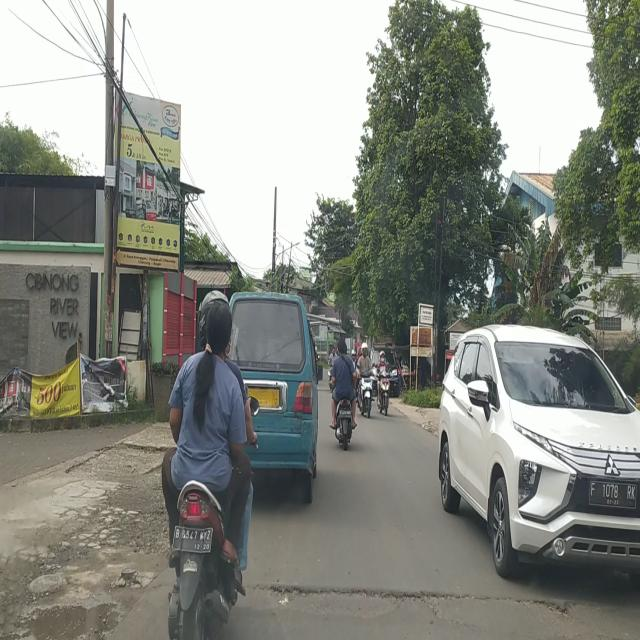Sewer Cover: (248, 577, 640, 619)
